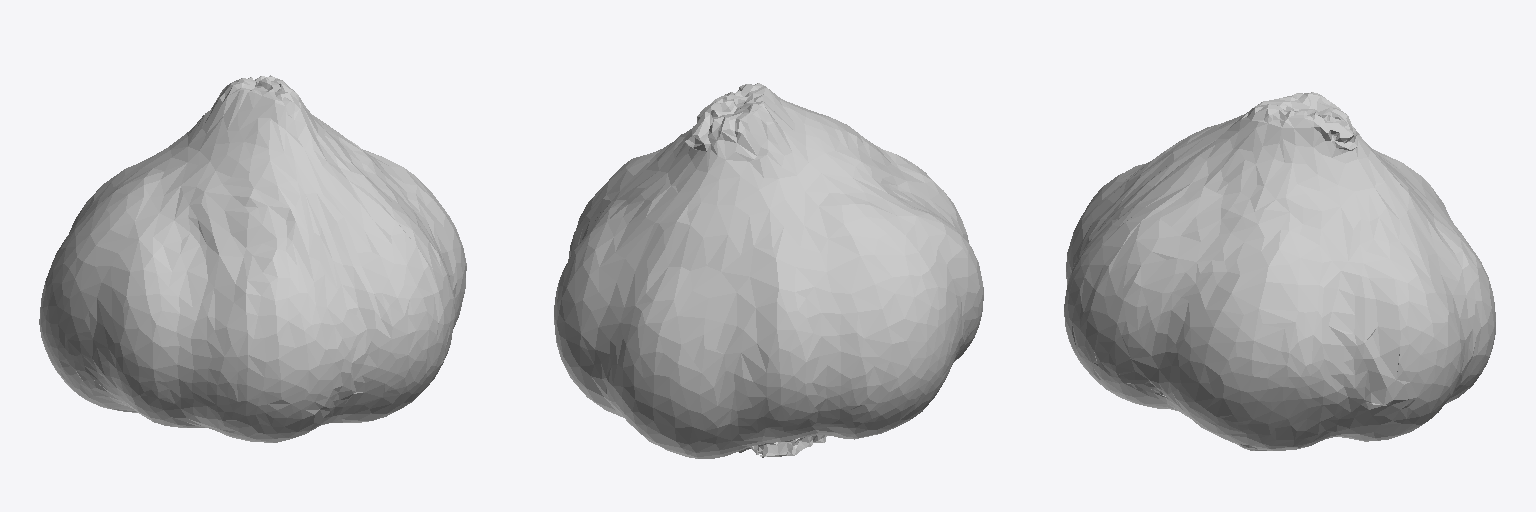
The model's file is garlic.obj.
The picture shows the model from 3 angles: view 1: azimuth 30°, elevation 25°; view 2: azimuth 150°, elevation 25°; view 3: azimuth 270°, elevation 25°; orthographic projection.
Parts seen in each view (by area): view 1: garlic; view 2: garlic; view 3: garlic.
Part boxes in pixels (left/top/right/bottom): garlic: left=39, top=75, right=466, bottom=442; garlic: left=554, top=83, right=983, bottom=458; garlic: left=1064, top=92, right=1495, bottom=450.
Size of the model in its own units: 1.84 by 1.52 by 1.83.